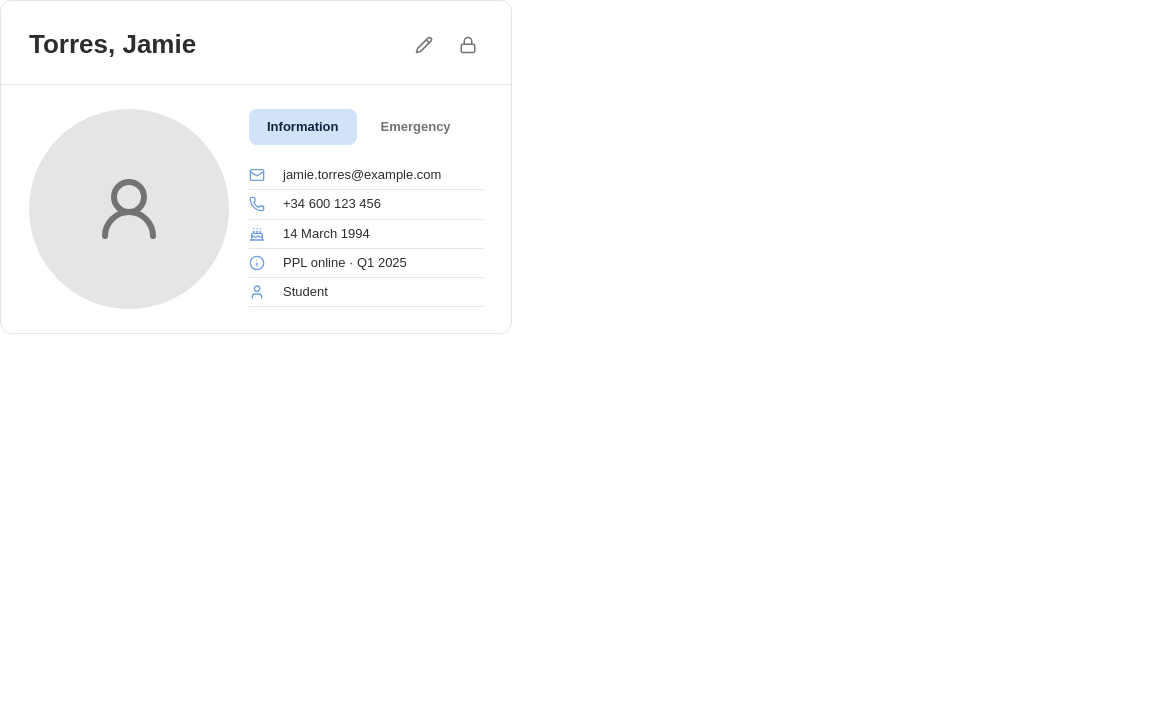
Test: ProfileCardContainer › opens the emergency contact modal when the pencil icon is clicked
This screenshot has width=1152, height=720.
Click the button named "Edit profile": (424, 44) [409, 30, 439, 60]
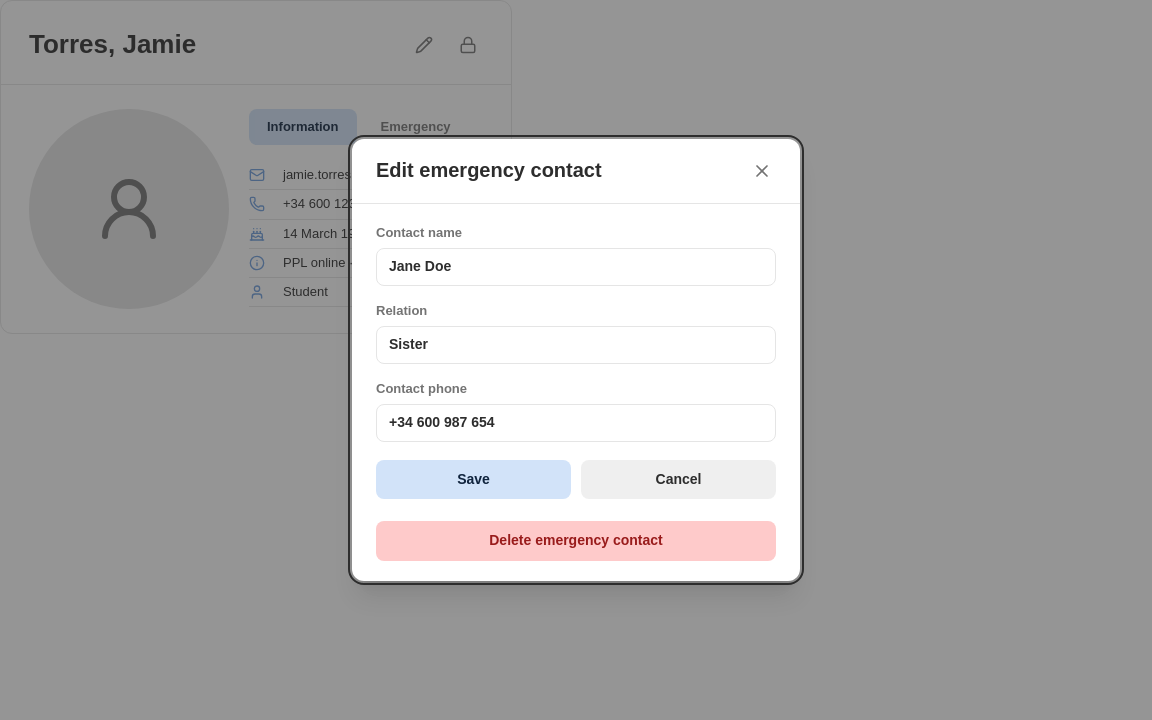
expect the heading "Edit emergency contact" is shown: met, box [376, 157, 602, 183]
